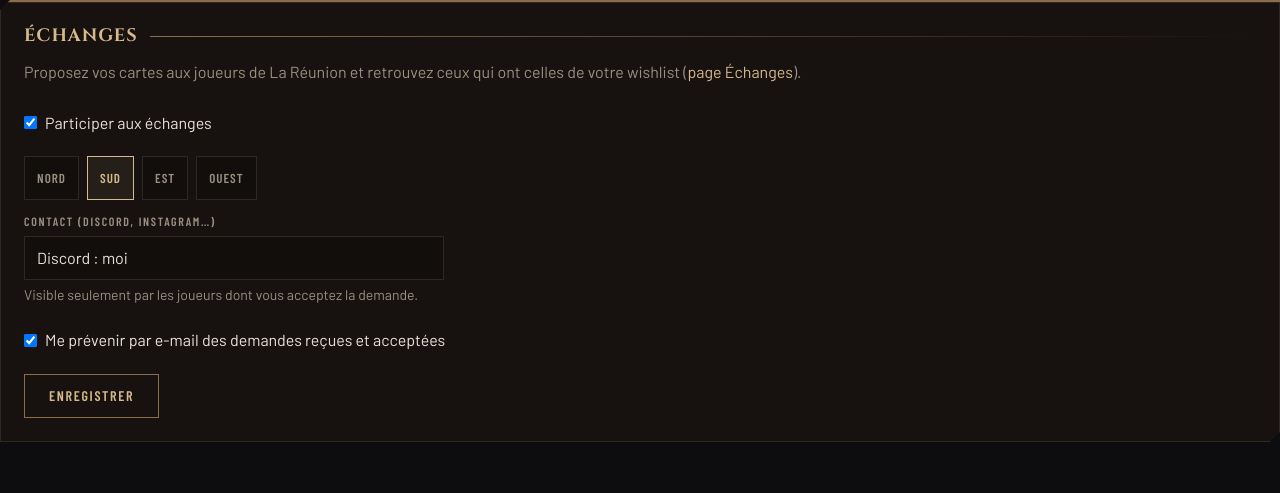
ProfileTrades › enregistre zone, contact et e-mails, puis émet le profil à jour
The width and height of the screenshot is (1280, 493).
Step 1. Click the radio button labelled "Ouest" → click(226, 178), box [196,156,256,200]
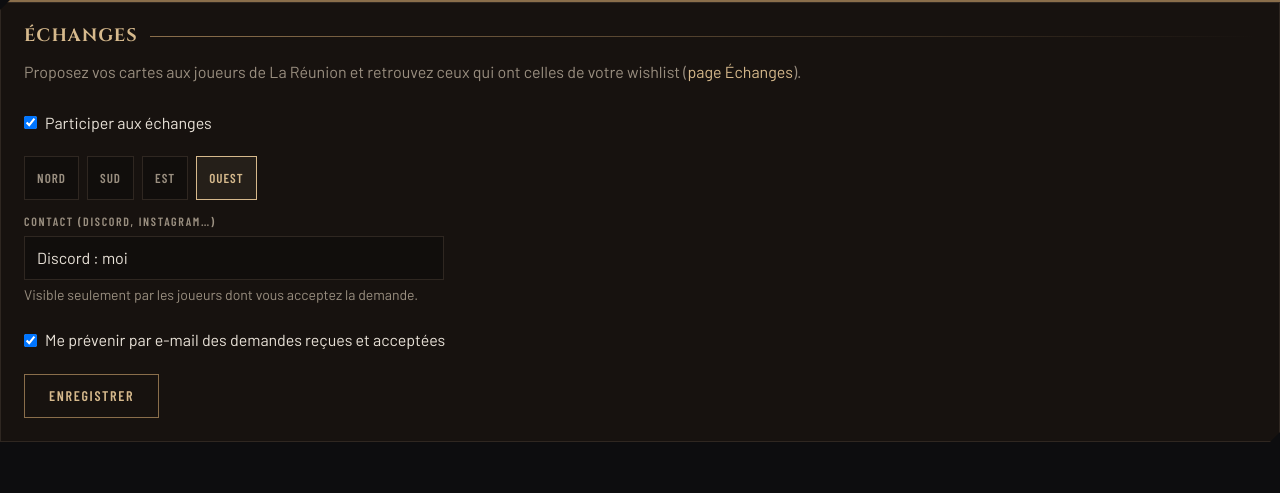
Step 2. Replace the text in the field labelled "Contact (Discord, Instagram…)" with "Insta : moi" → (234, 258), box [37,245,431,270]
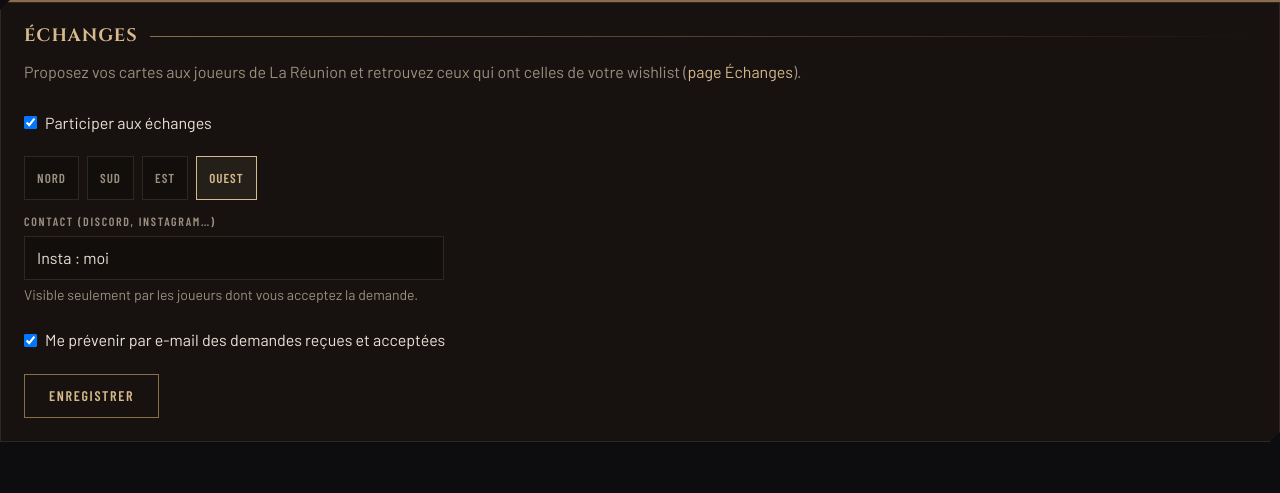
Step 3. Click the checkbox named "notify_trades" → click(30, 340), box [24,334,37,346]
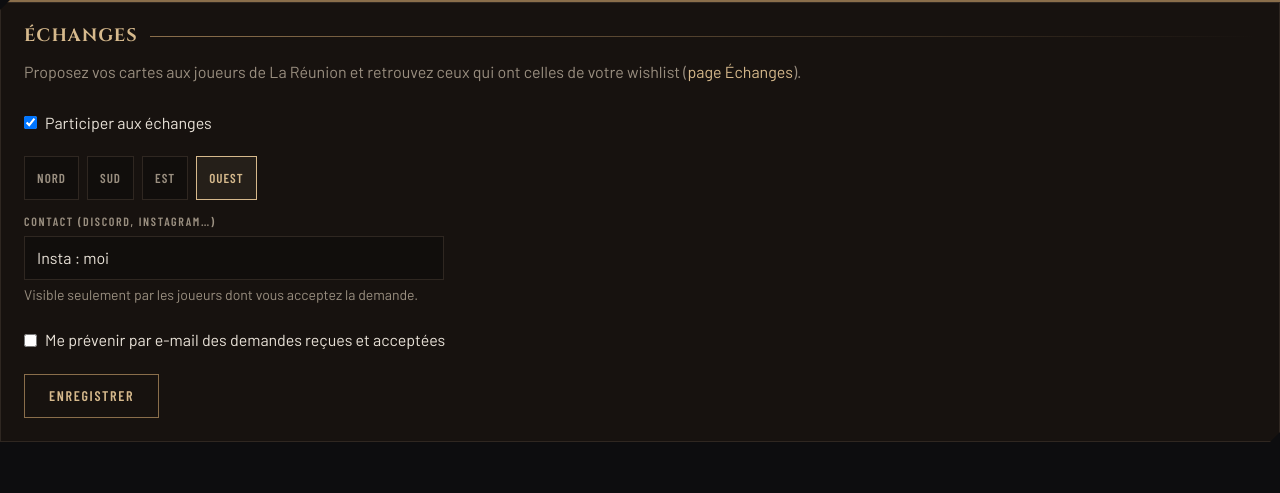
Step 4. Click the button "Enregistrer" → click(92, 396), box [24,374,159,418]
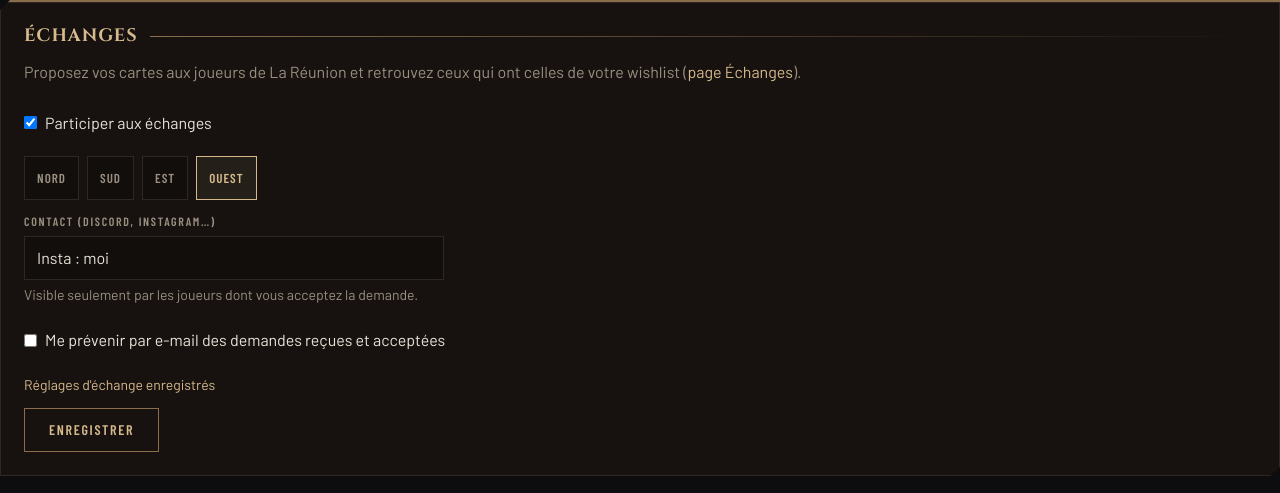
expect the text "Réglages d'échange enregistrés" is shown: met, box [24,374,215,396]
